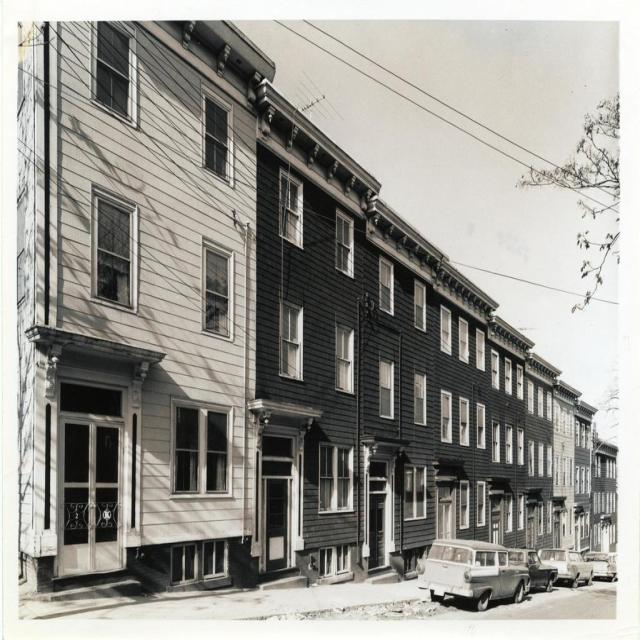car: (420, 535, 533, 606)
